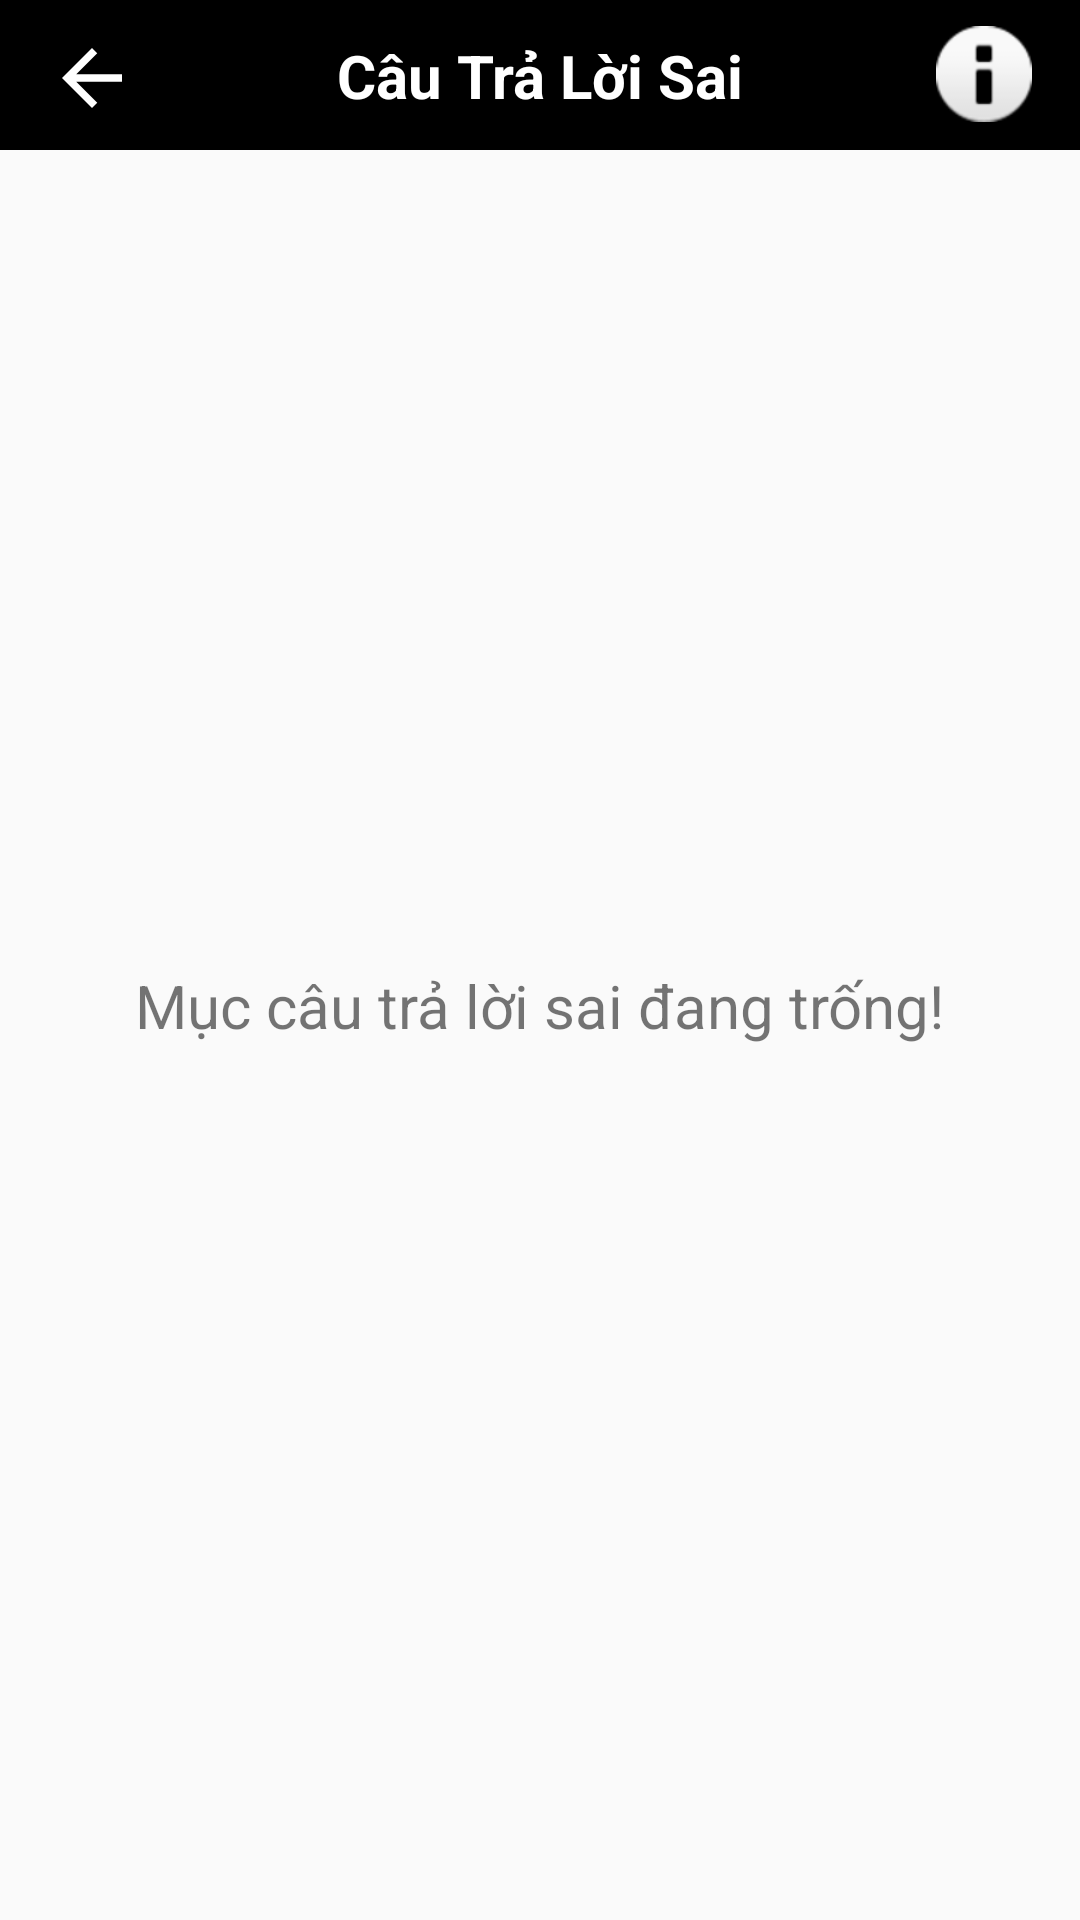

Where icons sit on this 1080px x 1920px app screen, as bbox=(x1, y1, x2, y2):
info: bbox=(936, 26, 1032, 122)
